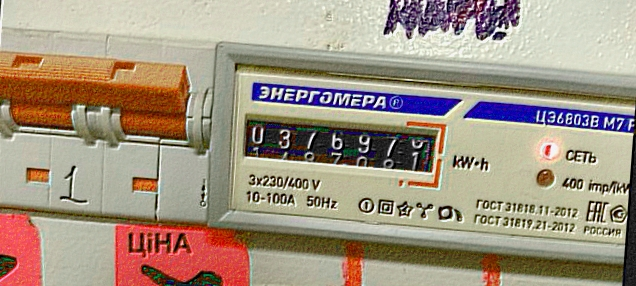0: (250, 123, 266, 146)
1: (409, 150, 420, 172)
3: (277, 128, 292, 150)
6: (329, 128, 346, 152)
7: (303, 127, 319, 151), (383, 133, 399, 157)
9: (356, 132, 372, 155)
screen: (231, 105, 450, 192)
